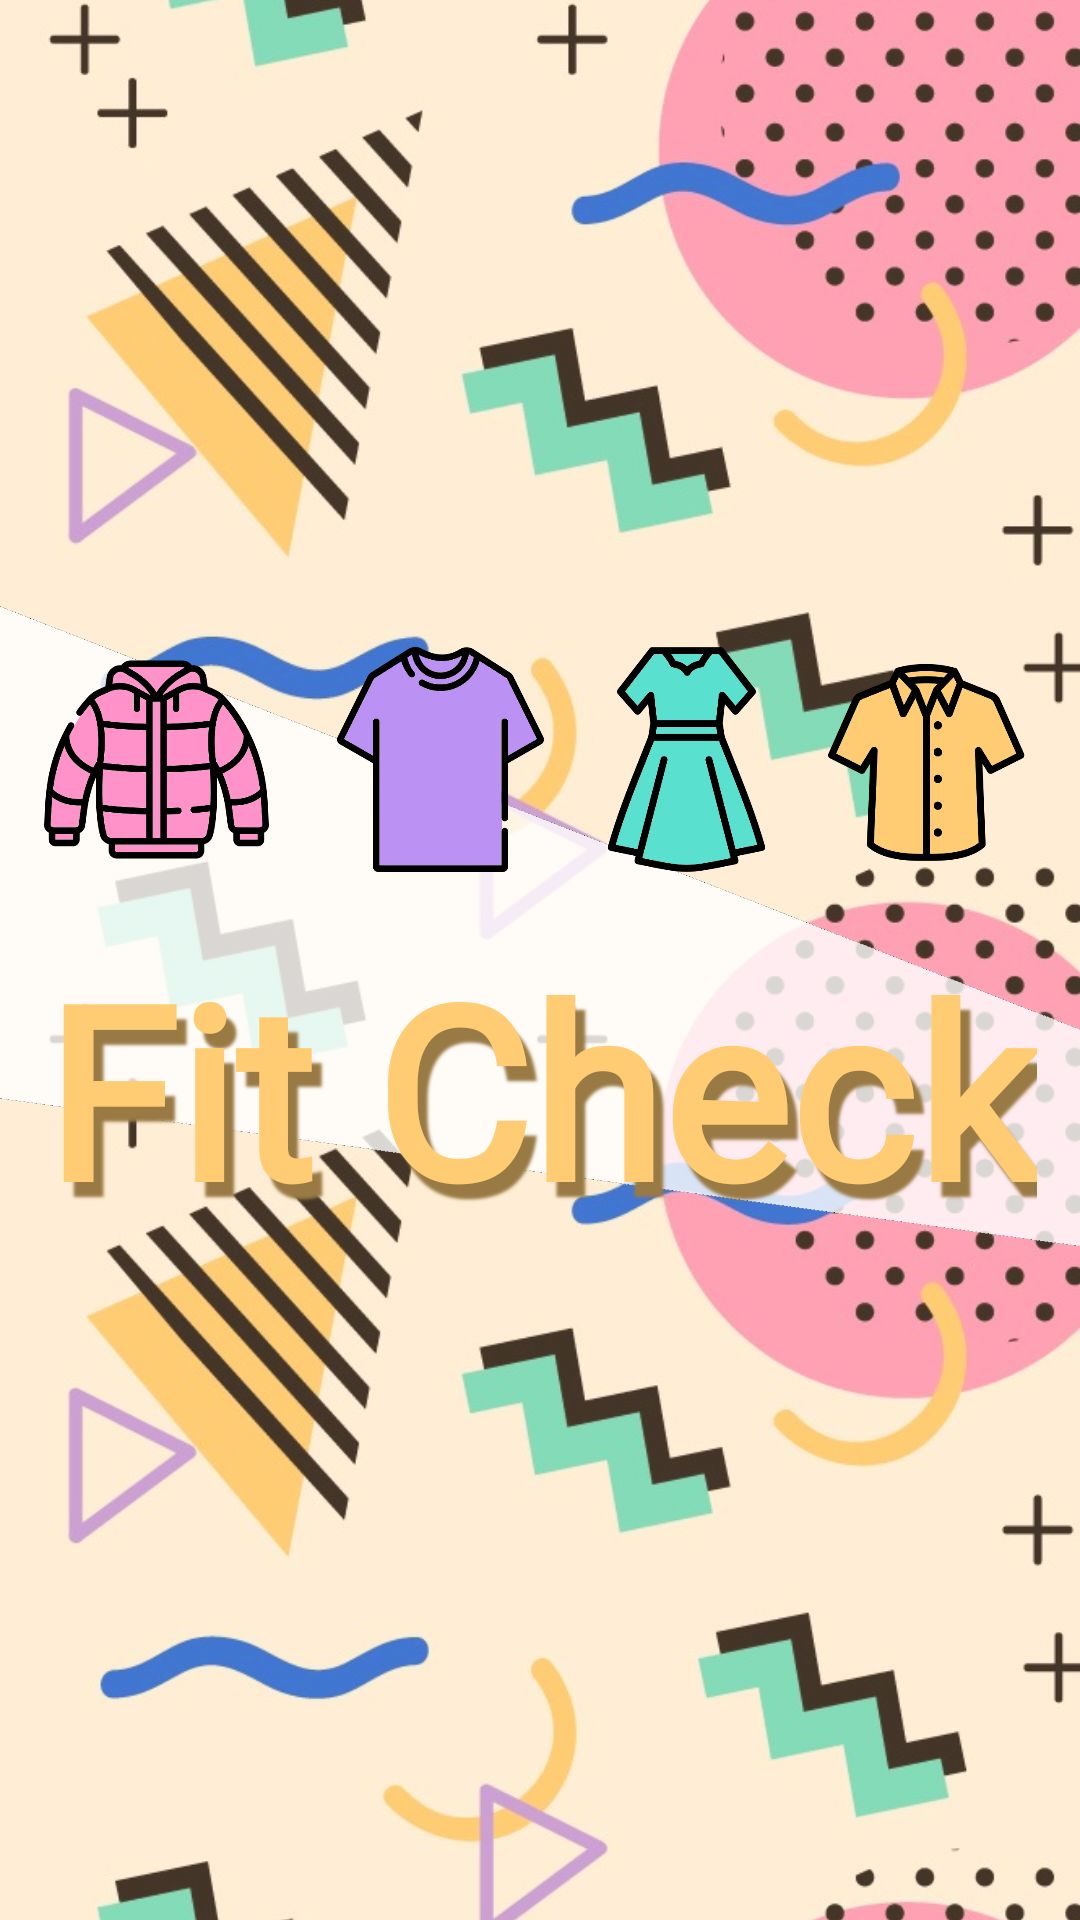

Named icons in this screenshot (1080 × 1920) and their centers, point (x, y):
dress: point (686, 759)
jacket: point (156, 759)
shirt: point (924, 759)
tshirt: point (440, 759)
